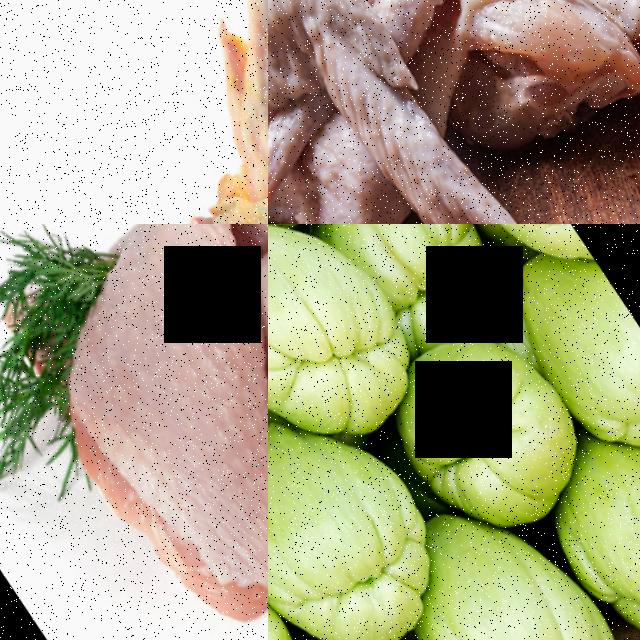chayote: (354, 494, 629, 640), (268, 224, 432, 468), (376, 337, 572, 526), (268, 421, 424, 640), (514, 429, 640, 640)
chicken thigh: (0, 224, 268, 640)
chicken wing: (268, 0, 548, 224), (0, 0, 268, 224)
